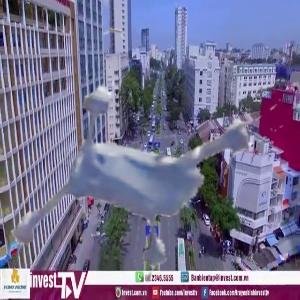drone: (19, 13, 300, 294)
